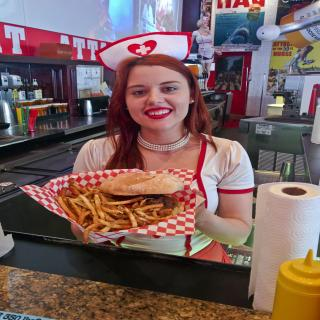French fries: (47, 174, 194, 230)
